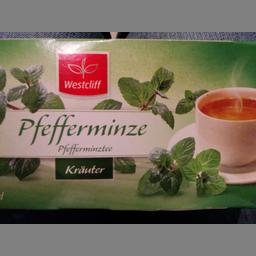tea: (0, 36, 255, 212)
